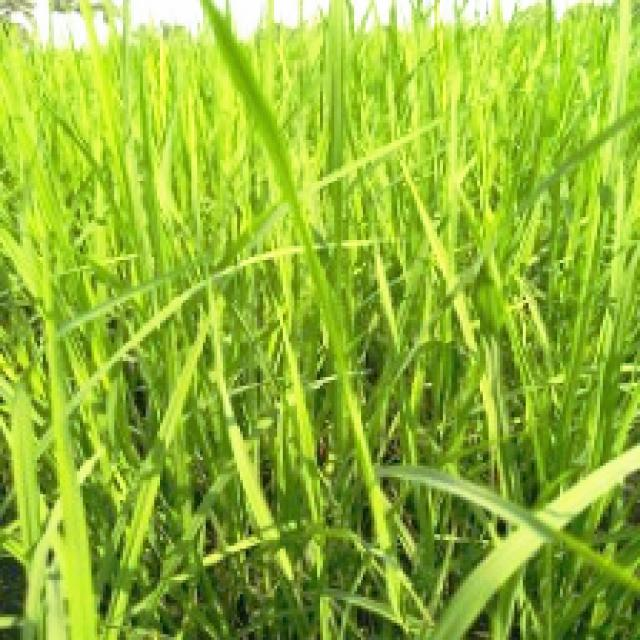health: (11, 65, 113, 465)
